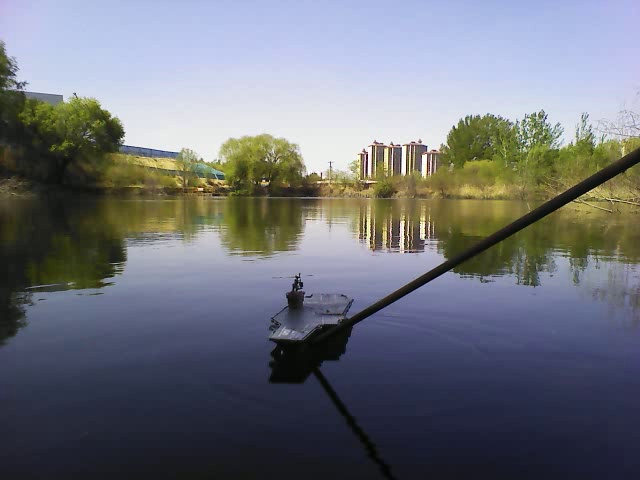aircraft_carrier: (268, 278, 355, 354)
